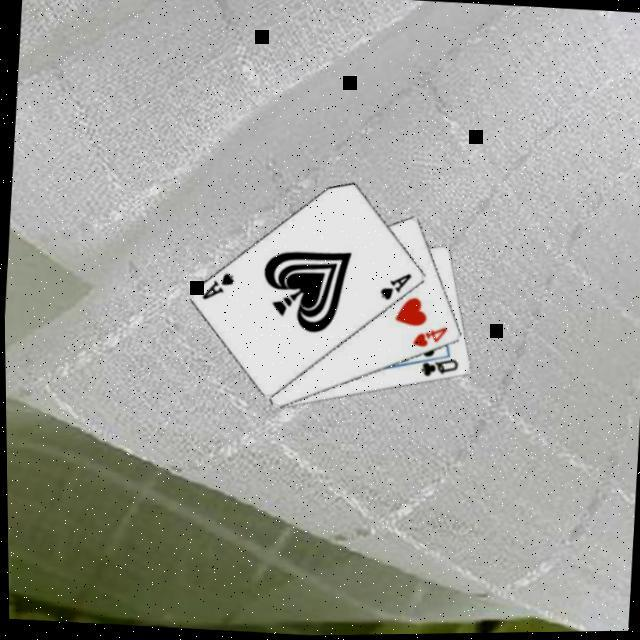4H: (407, 325, 448, 354)
AS: (196, 270, 236, 306), (375, 272, 413, 306)
QC: (415, 356, 459, 384)
